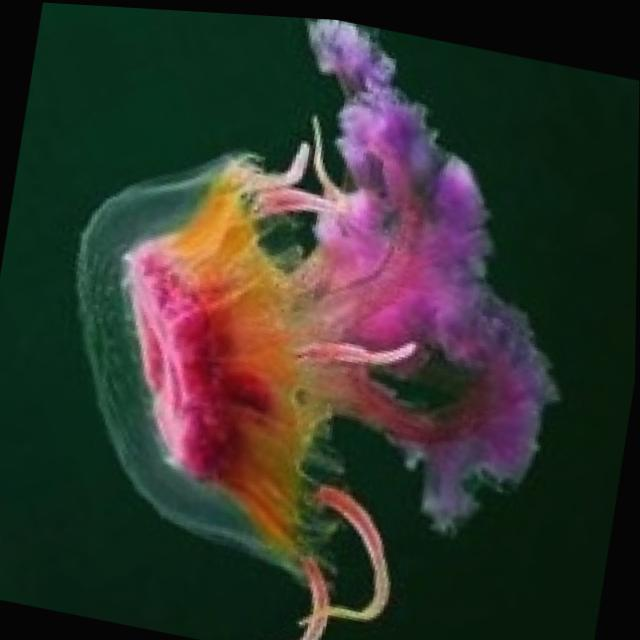Box-jellyfish: (19, 1, 610, 640)
